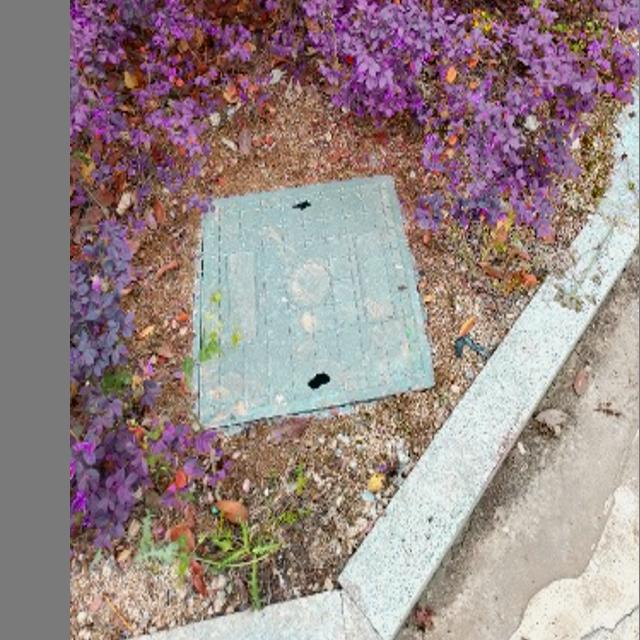good: (196, 173, 437, 425)
